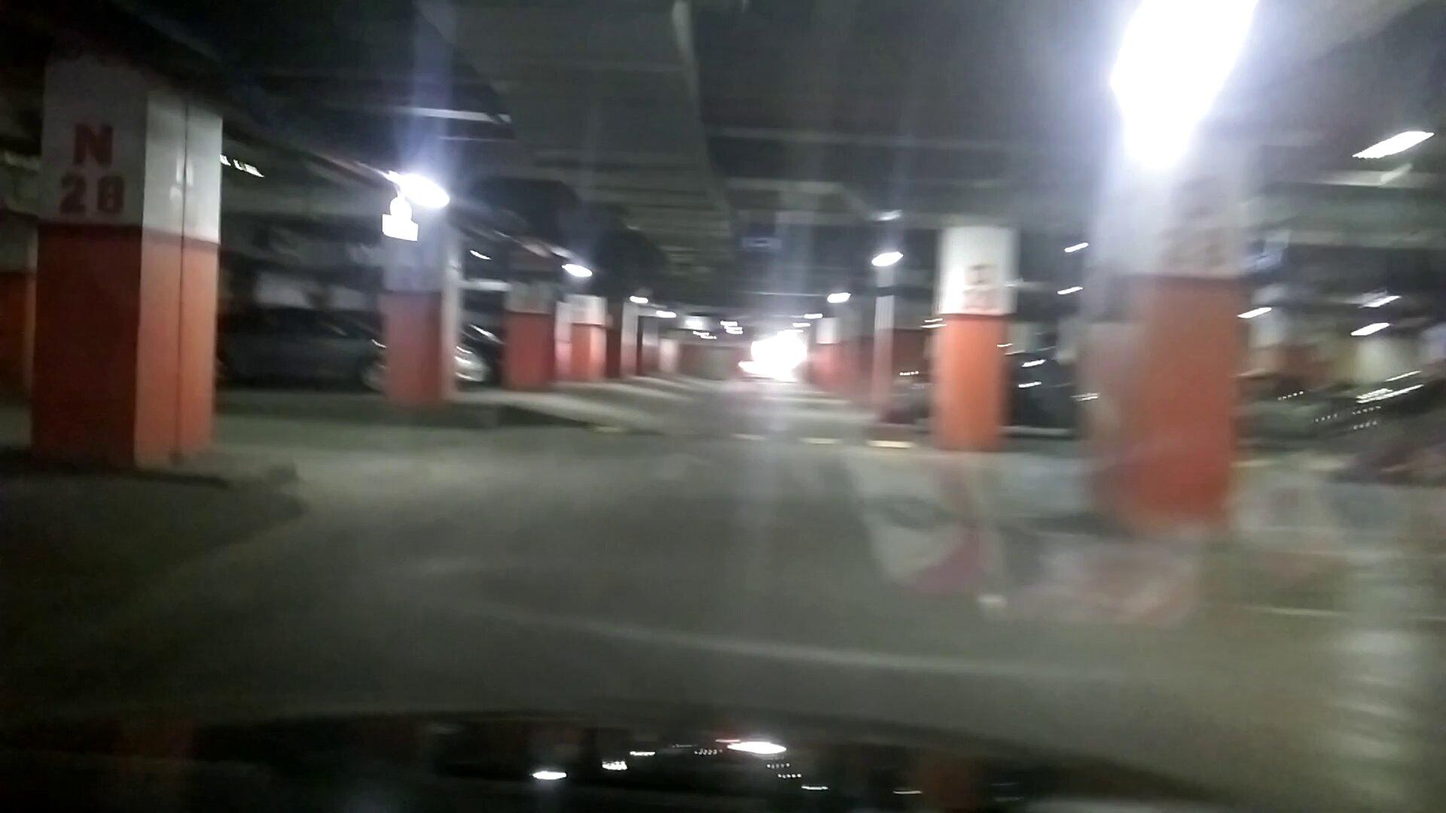Bump: (587, 414, 932, 454)
